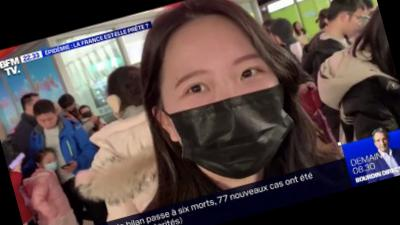with_mask: (158, 45, 304, 193), (42, 155, 61, 175), (80, 107, 95, 121)
without_mask: (341, 5, 370, 40), (35, 111, 61, 132)
